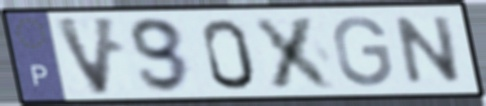0: (198, 16, 260, 92)
9: (125, 15, 196, 95)
G: (330, 13, 395, 89)
N: (393, 13, 465, 87)
V: (50, 14, 121, 98)
X: (248, 13, 342, 91)
